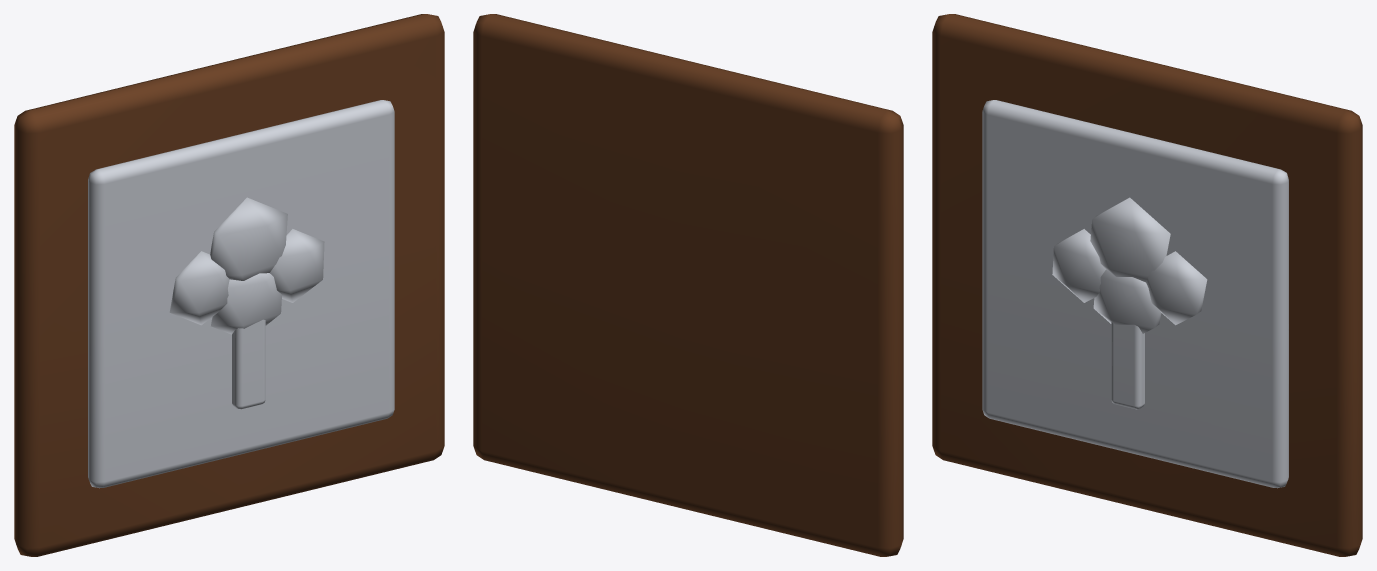
The model's file is furn_plaque_silver.glb.
3 renders of one model, left to right at view 1: azimuth 30°, elevation 25°; view 2: azimuth 150°, elevation 25°; view 3: azimuth 330°, elevation 25°, orthographic.
Parts seen in each view (by area): view 1: furn_plaque_silver_gloss, furn_plaque_silver_main; view 2: furn_plaque_silver_main; view 3: furn_plaque_silver_gloss, furn_plaque_silver_main.
Boxes of the visible parts, left/top/right/bottom form: furn_plaque_silver_gloss: left=88, top=100, right=394, bottom=488; furn_plaque_silver_main: left=14, top=14, right=444, bottom=556; furn_plaque_silver_main: left=473, top=14, right=903, bottom=556; furn_plaque_silver_gloss: left=982, top=100, right=1288, bottom=488; furn_plaque_silver_main: left=932, top=14, right=1362, bottom=556.
Size of the model in its own units: 0.84 by 0.84 by 0.1155.
